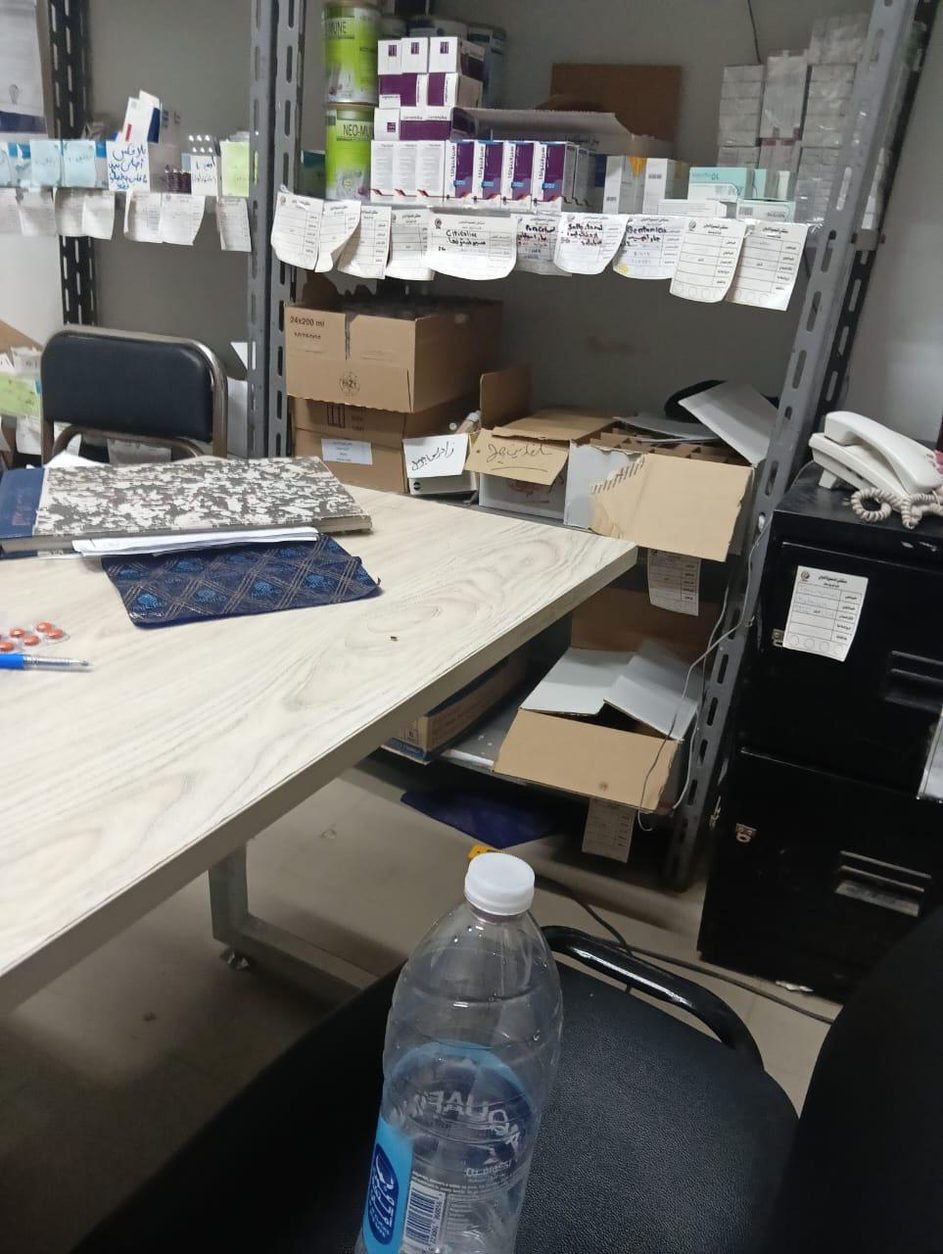Bottle: (357, 852, 561, 1253)
